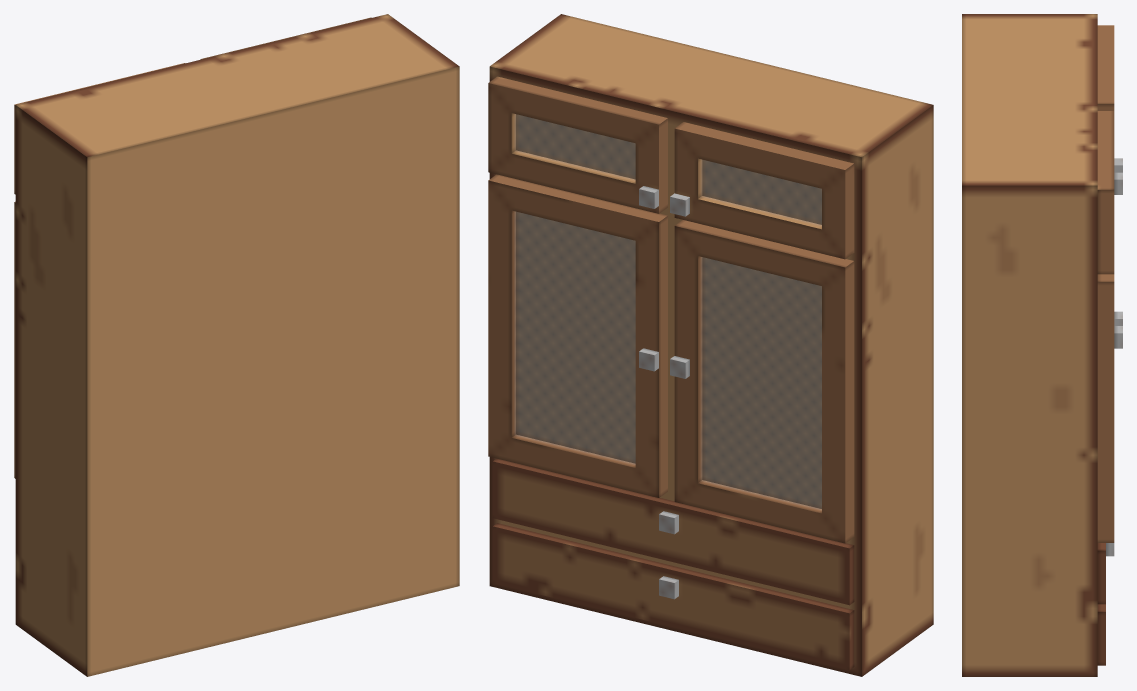
The model's file is SM_Cuborad_.fbx.
3 renders of one model, left to right at view 1: azimuth 30°, elevation 25°; view 2: azimuth 150°, elevation 25°; view 3: azimuth 270°, elevation 25°, orthographic. The views are drawn at different scales.
Parts seen in each view (by area): view 1: Cuborad_.001; view 2: Cuborad_.001; view 3: Cuborad_.001.
Boxes of the visible parts, x1,y1,x2,y2 form: Cuborad_.001: [14, 14, 459, 676]; Cuborad_.001: [488, 14, 933, 676]; Cuborad_.001: [962, 14, 1122, 676].
Bounding box in the file's own units: 154 × 205 × 60.8.
